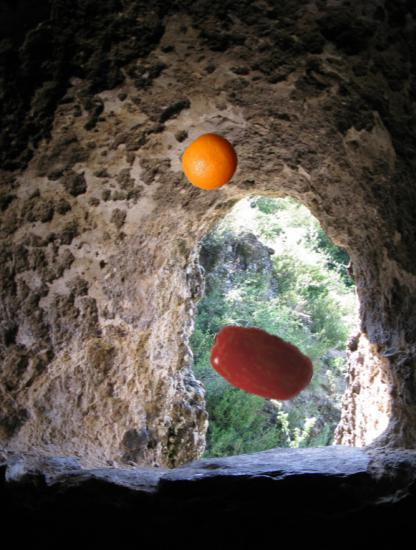Orange: (182, 134, 239, 191)
Tomato: (207, 310, 315, 418)
